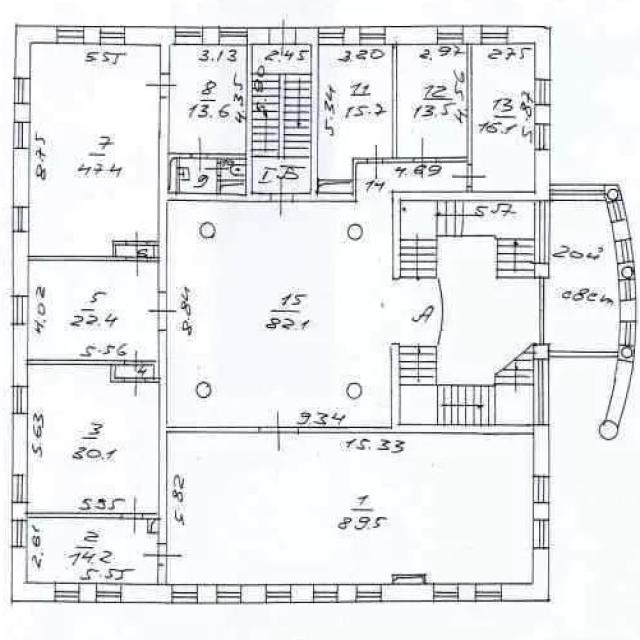Bathrooms: (181, 159, 217, 193), (221, 160, 245, 179)
Corridors: (167, 163, 466, 427), (549, 202, 620, 351), (116, 365, 153, 377), (117, 246, 153, 257)
Doors: (258, 409, 299, 454), (147, 291, 177, 331), (142, 543, 184, 570), (413, 135, 437, 179), (269, 18, 296, 57), (269, 176, 294, 218), (535, 278, 549, 344), (144, 72, 178, 98), (121, 495, 143, 535), (452, 164, 486, 187), (191, 137, 209, 172), (125, 250, 148, 277), (124, 372, 146, 398), (368, 143, 383, 179), (391, 279, 399, 344), (124, 349, 145, 372), (125, 231, 147, 252), (205, 161, 229, 175)
LBwalls: (391, 343, 535, 435), (392, 191, 535, 280), (598, 345, 635, 443), (501, 549, 550, 602), (11, 547, 55, 603), (509, 24, 552, 79), (14, 24, 56, 78), (159, 330, 167, 543), (159, 96, 167, 293), (167, 192, 270, 202), (12, 232, 28, 296), (385, 26, 438, 45), (12, 148, 29, 207), (12, 325, 28, 387), (382, 583, 434, 602), (124, 26, 175, 45), (122, 583, 171, 602), (311, 45, 317, 192), (13, 414, 28, 472), (533, 425, 549, 476), (247, 45, 252, 194), (535, 150, 549, 201), (293, 192, 356, 202), (241, 583, 266, 603), (290, 584, 313, 602), (296, 27, 319, 45), (198, 584, 217, 605), (248, 27, 270, 45), (463, 25, 482, 45), (613, 220, 631, 241), (338, 584, 357, 602), (459, 582, 476, 602), (606, 184, 623, 204), (617, 261, 635, 279), (13, 103, 30, 122), (80, 583, 96, 603), (620, 300, 636, 320), (159, 45, 170, 74), (202, 27, 219, 45), (85, 26, 101, 45), (11, 502, 28, 519), (344, 27, 360, 45), (535, 105, 550, 123), (533, 503, 549, 518), (535, 263, 549, 278), (535, 345, 549, 359), (157, 570, 167, 584)
Offices: (166, 434, 533, 583), (29, 44, 160, 256), (28, 366, 159, 512), (28, 261, 158, 360), (318, 45, 392, 179), (473, 45, 534, 191), (28, 520, 158, 582), (170, 46, 245, 153), (397, 45, 467, 157)
Stairs: (400, 201, 533, 424), (252, 43, 311, 193)
Walls: (438, 45, 473, 165), (382, 45, 414, 163), (28, 359, 124, 383), (28, 241, 125, 261), (317, 157, 368, 193), (168, 153, 191, 193), (216, 175, 246, 194), (28, 513, 121, 519), (299, 427, 392, 433), (166, 427, 258, 433), (548, 351, 617, 357), (207, 153, 246, 163), (145, 360, 160, 383), (392, 574, 425, 584), (147, 240, 159, 262), (143, 512, 159, 520)
Windows: (533, 358, 549, 426), (549, 183, 606, 201), (534, 200, 549, 263), (171, 583, 198, 604), (96, 582, 121, 603), (56, 25, 85, 43), (437, 25, 464, 44), (532, 519, 549, 549), (219, 27, 247, 45), (266, 583, 291, 603), (54, 582, 79, 602), (476, 583, 502, 602), (11, 474, 28, 503), (481, 25, 508, 43), (606, 200, 627, 223), (434, 583, 459, 602), (216, 584, 241, 603), (100, 26, 125, 45), (313, 584, 339, 602), (11, 520, 28, 547), (13, 122, 30, 149), (175, 27, 202, 44), (615, 239, 634, 263), (13, 295, 28, 325), (360, 27, 385, 45), (532, 476, 549, 502), (13, 78, 30, 104), (13, 386, 28, 415), (357, 584, 381, 602), (618, 321, 636, 345), (319, 27, 344, 44), (535, 79, 551, 105), (619, 279, 637, 302), (534, 123, 549, 150), (13, 207, 29, 232)
